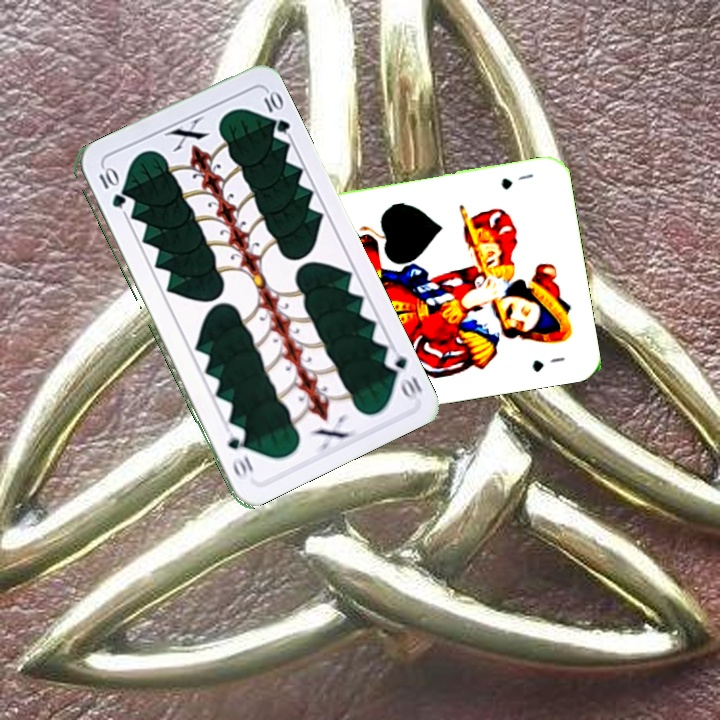G10: (379, 344, 425, 403), (94, 164, 127, 211)
GU: (497, 169, 536, 192)
